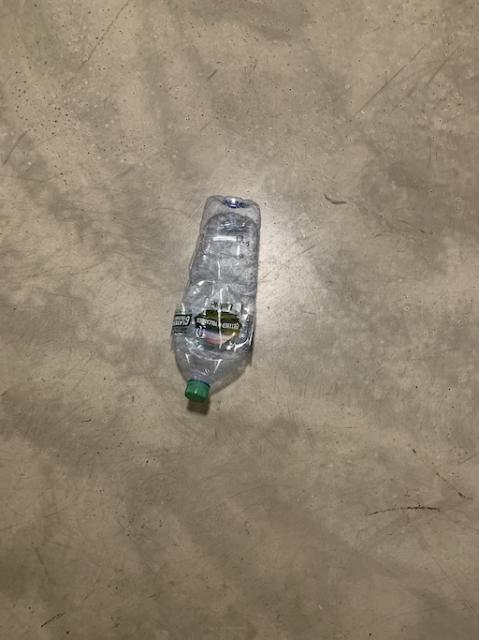plastic: (171, 195, 259, 401)
